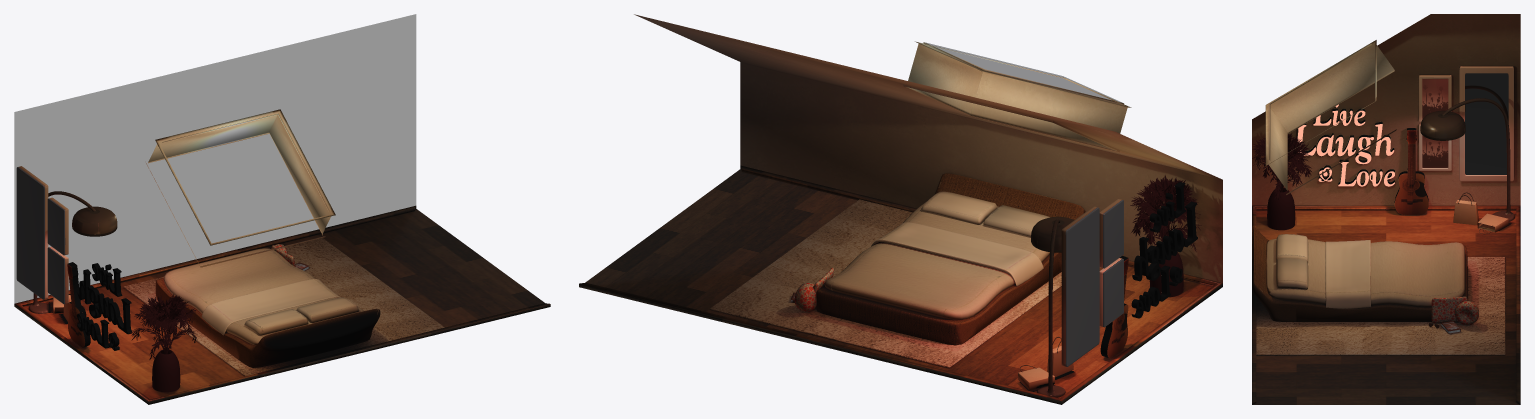
3 views of the same model, side by side, from view 1: azimuth 30°, elevation 25°; view 2: azimuth 150°, elevation 25°; view 3: azimuth 270°, elevation 25° (orthographic). The views are drawn at different scales.
Visible parts, largest first — view 1: LoftBedroom; view 2: LoftBedroom; view 3: LoftBedroom.
Part boxes in pixels (x1,y1,x2,y2): LoftBedroom: (14,14,550,404); LoftBedroom: (579,14,1222,404); LoftBedroom: (1252,14,1520,404).
Size of the model in its own units: 6.75 by 3.25 by 3.9.
